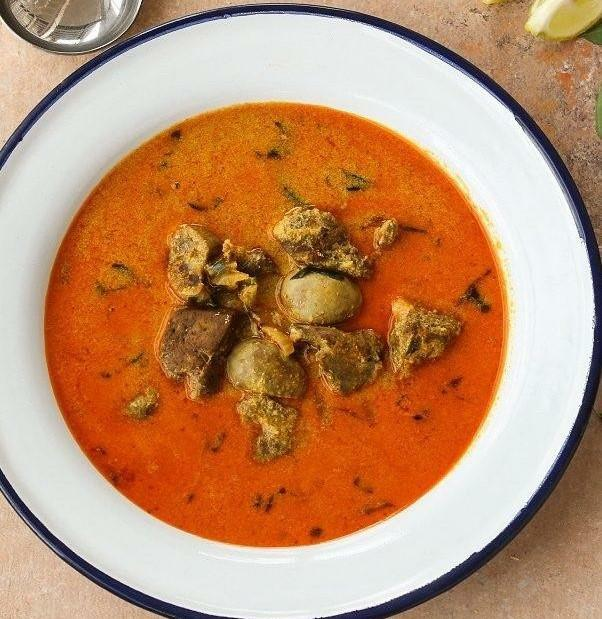MuttonCurry: (45, 101, 502, 547)
